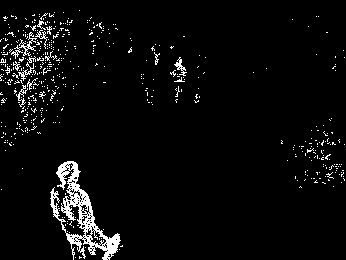person: (49, 158, 122, 260), (169, 56, 188, 104)
